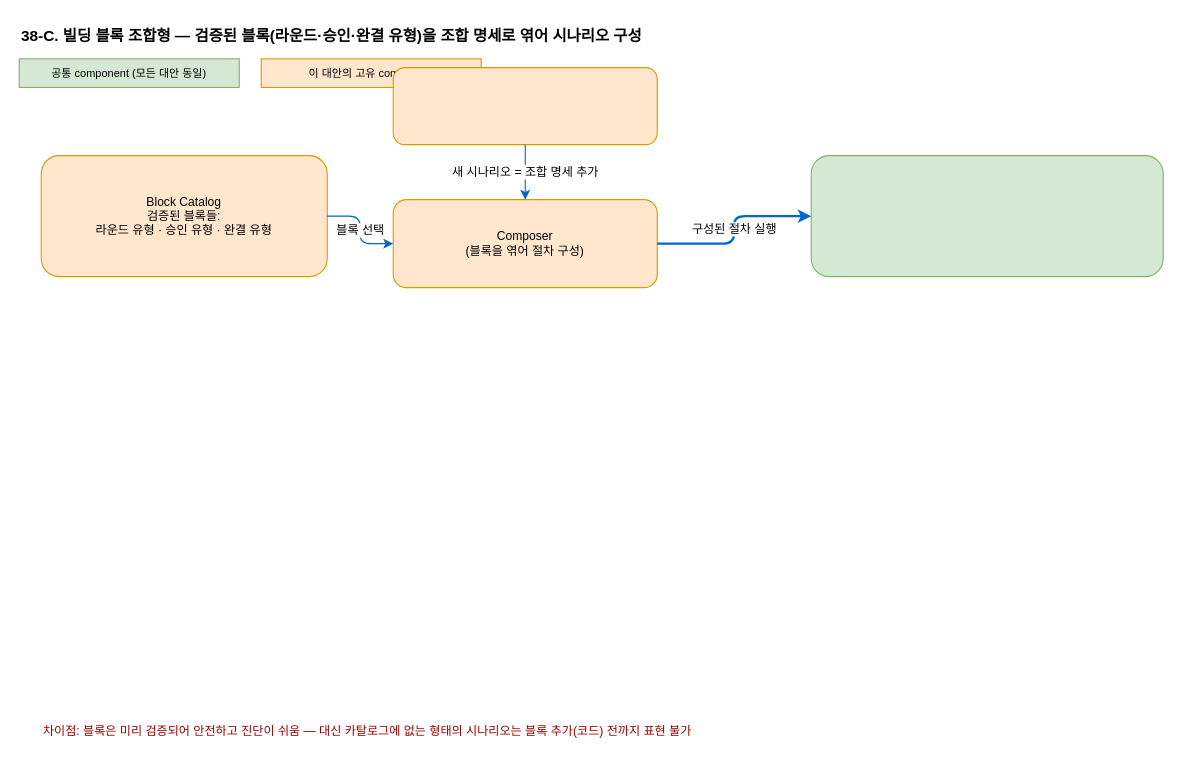
Some shapes in this 1194 by 779 pixel diagram are drawn without their labels. The centre of each missing label's shape, as x and y in pixels:
"Composition Spec (데이터) (어떤 블록을 어떤 순서로)" goes at (524,106).
"협상 코어 (공통) 라운드 실행 · 완결 판정 · 메시지 프로토콜 (코드 변경 없이 유지되는 부분)" goes at (986,216).
